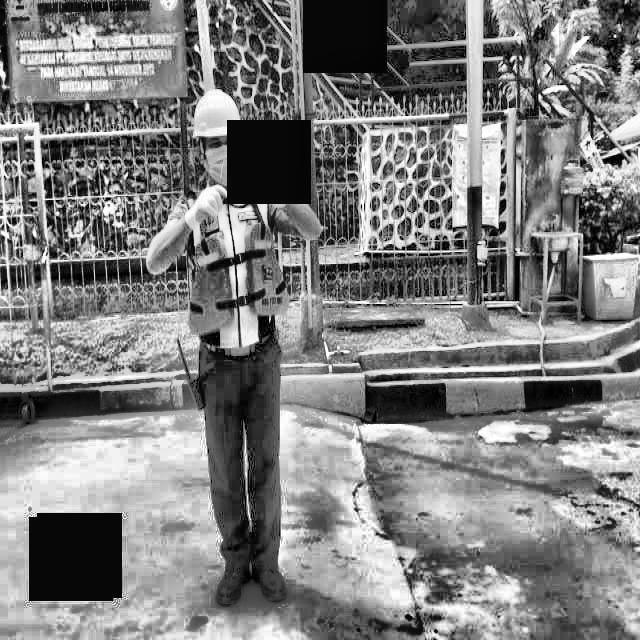safety_helmet: (189, 88, 246, 140)
safety_jacket: (184, 176, 285, 360)
